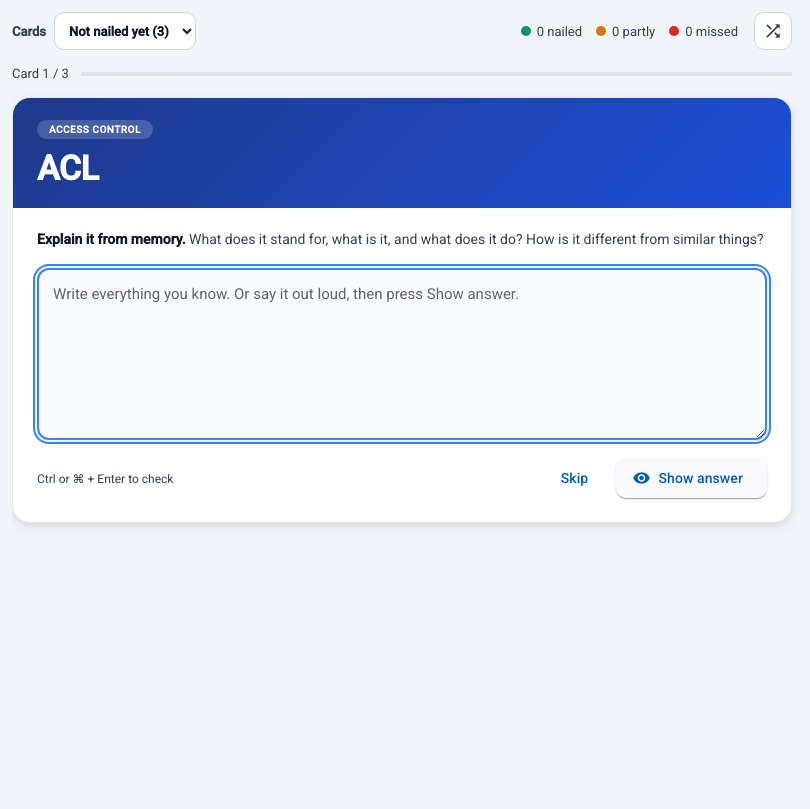
Test: BrainDumpComponent › can be submitted with Ctrl+Enter from the box
Replace the text in the text box with class "bd-input" with "something" at (402, 354), box x1=37 y1=268 x2=767 y2=440
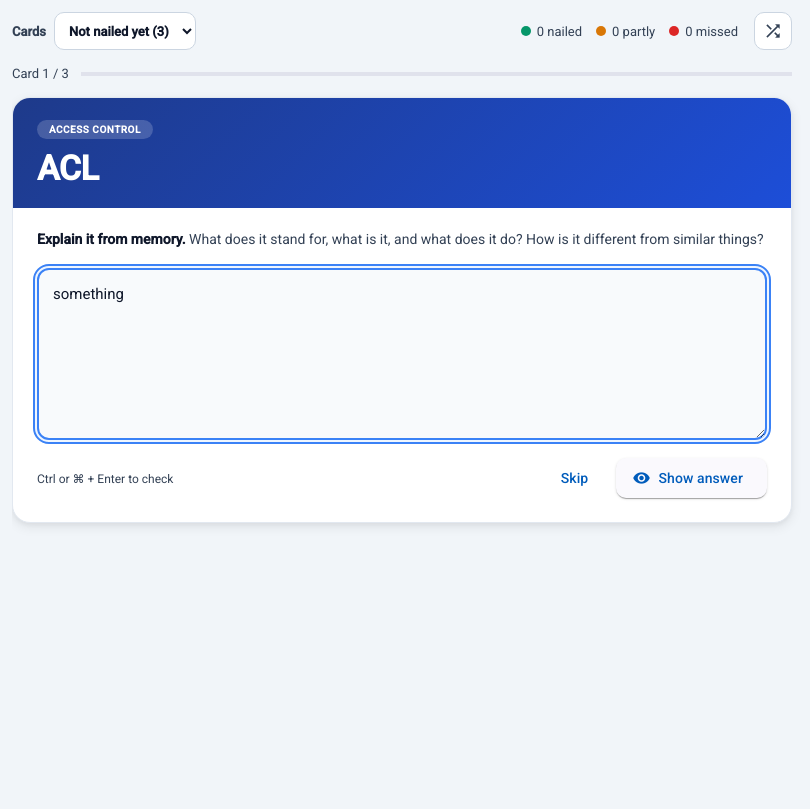
Press Enter in the text box with class "bd-input", box x1=37 y1=268 x2=767 y2=440
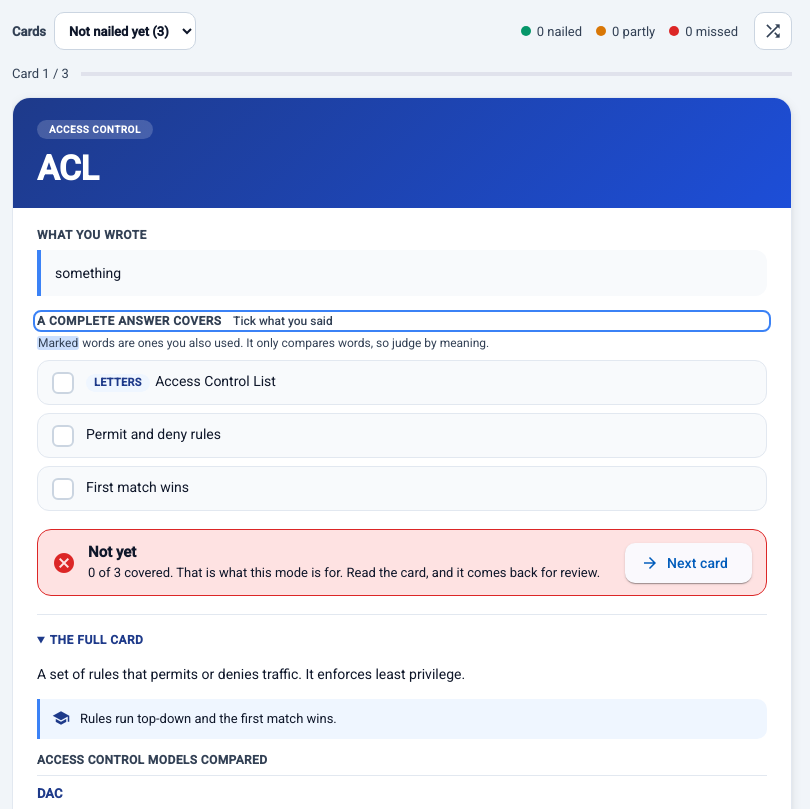
Now the list with class "bd-points" is shown, box x1=37 y1=360 x2=767 y2=512
